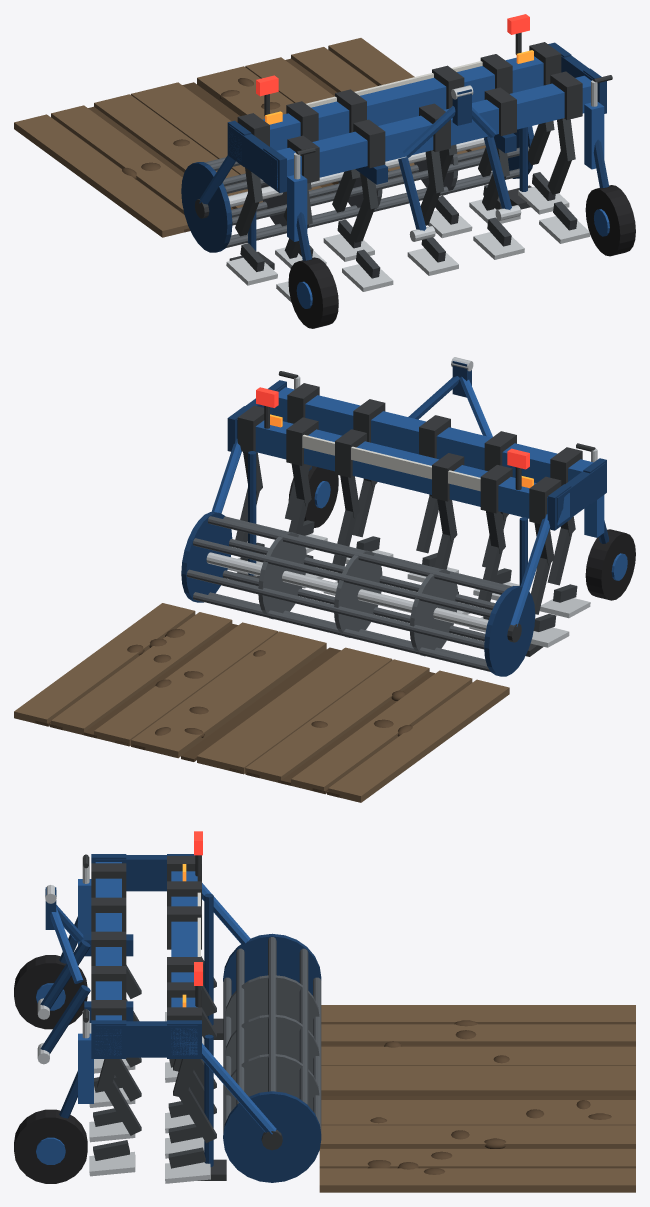
The model's file is cultivator.glb.
3 views of the same model, one above another, from view 1: azimuth 30°, elevation 25°; view 2: azimuth 150°, elevation 25°; view 3: azimuth 270°, elevation 25° (orthographic). The views are drawn at different scales.
Visible parts, largest first — view 1: CultivatorBody, CultivatedProps, CageRoller; view 2: CultivatedProps, CultivatorBody, CageRoller; view 3: CultivatedProps, CultivatorBody, CageRoller.
Part boxes in pixels (x1,y1,x2,y2): CultivatorBody: [195, 14, 635, 328]; CultivatedProps: [14, 38, 485, 237]; CageRoller: [181, 126, 533, 252]; CultivatedProps: [14, 603, 509, 802]; CultivatorBody: [211, 357, 635, 656]; CageRoller: [181, 512, 535, 676]; CultivatedProps: [319, 1005, 635, 1192]; CultivatorBody: [14, 831, 282, 1183]; CageRoller: [223, 933, 321, 1182].
Size of the model in its own units: 2.43 by 1.34 by 3.54.
